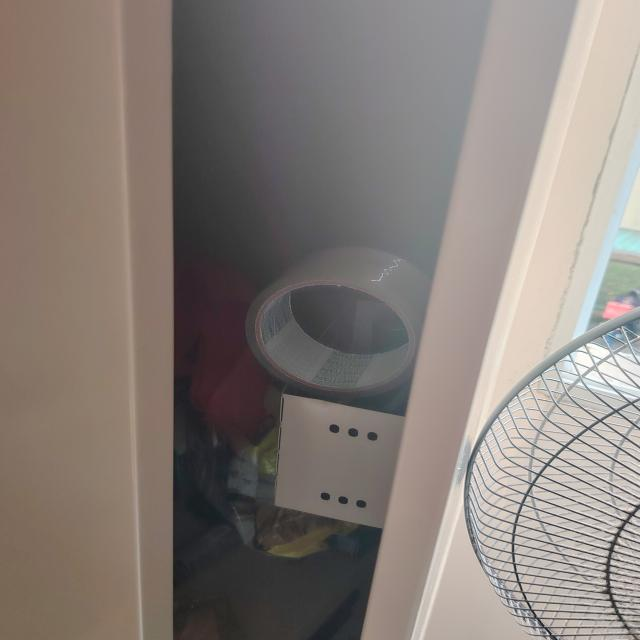tape: (246, 247, 430, 398)
